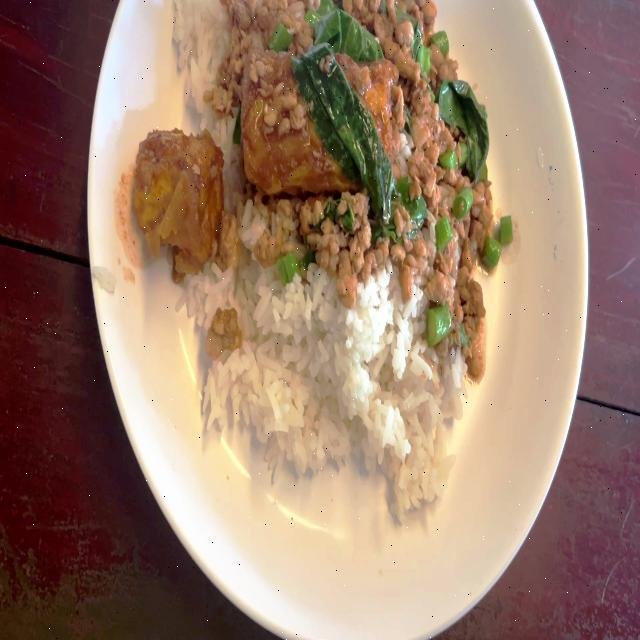fried_tofo: (246, 61, 392, 185), (136, 130, 221, 268)
minced_pork: (394, 63, 497, 364), (215, 186, 401, 278), (226, 0, 480, 65)
rice: (228, 290, 460, 495)
stir_fried_basil: (139, 2, 512, 524)
